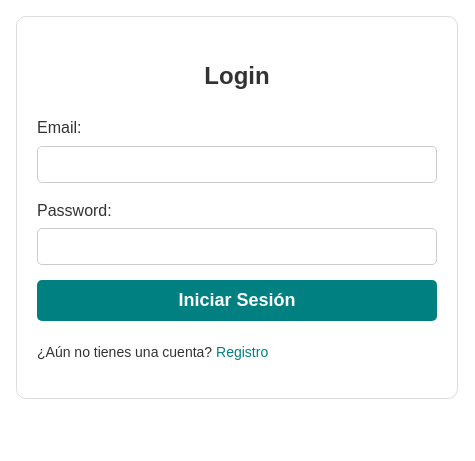
LoginPage › debería mostrar un mensaje de error si falla el inicio de sesión
In the field labelled "Email:": (237, 164) [37,146,437,183], type "test@example.com"
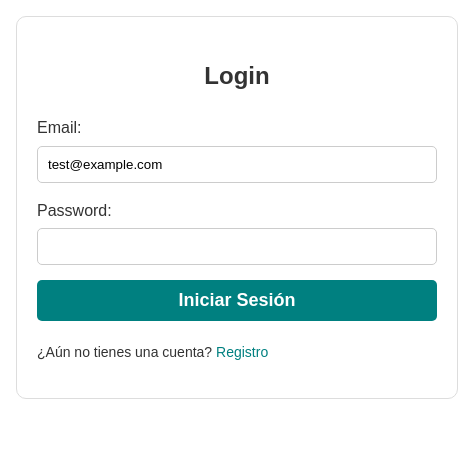
In the password field labelled "Password:": (237, 247) [37,228,437,266], type "wrongpassword"
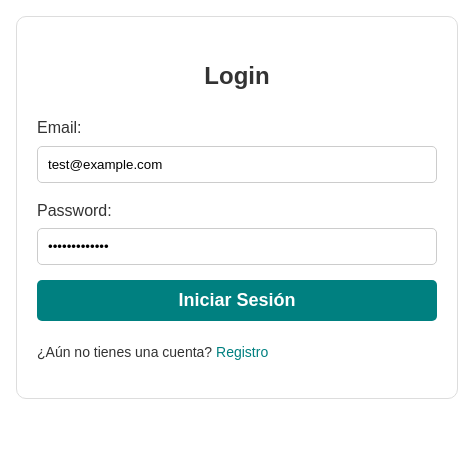
Click the button "Iniciar Sesión": (237, 301) [37,280,437,322]
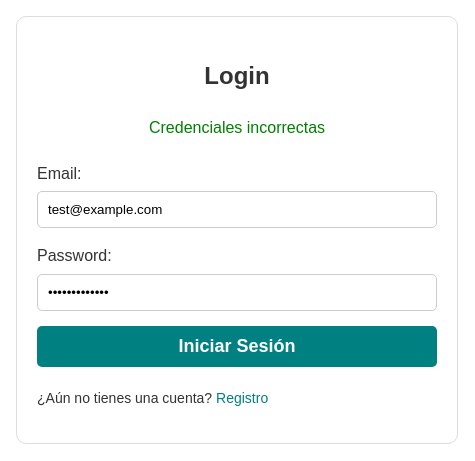
Result: the text "Credenciales incorrectas" is shown at [149,119,325,136]
